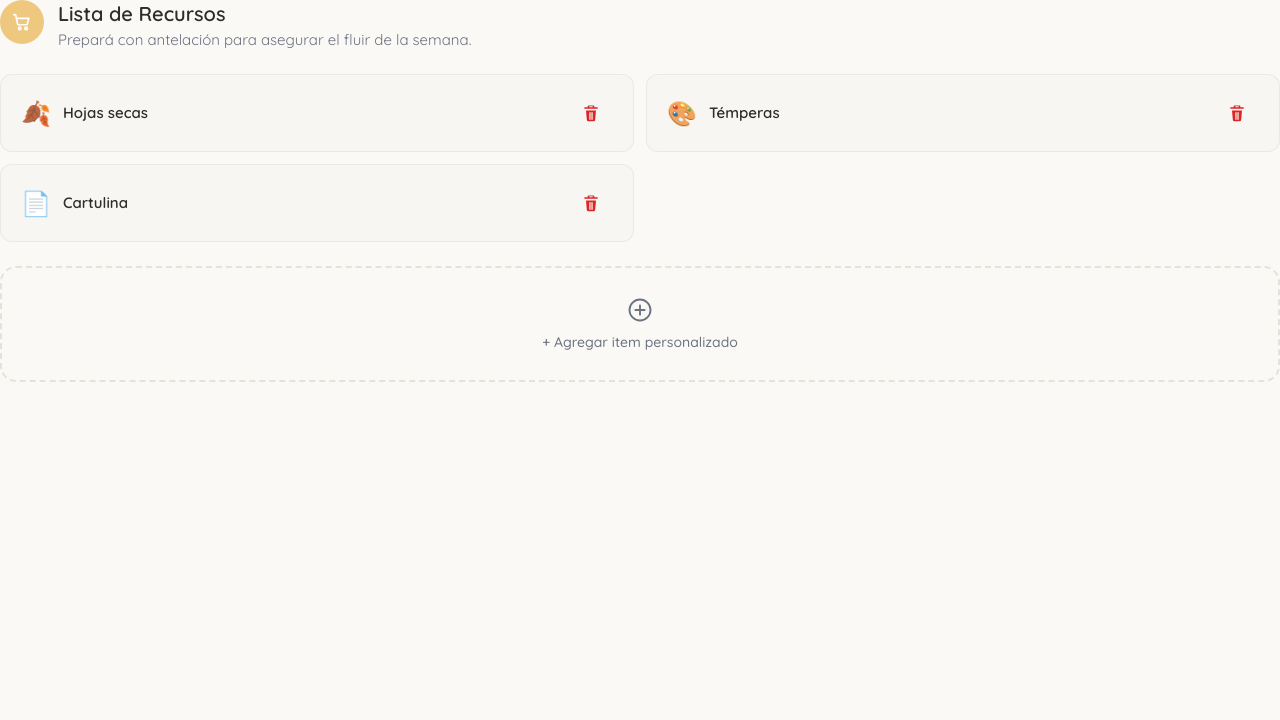
Test case: MaterialesTab - eliminar material › abre un diálogo de confirmación accesible y enfoca Cancelar
Click the button named "Eliminar material: Hojas secas".
click(591, 113)  # box left=569, top=91, right=613, bottom=135
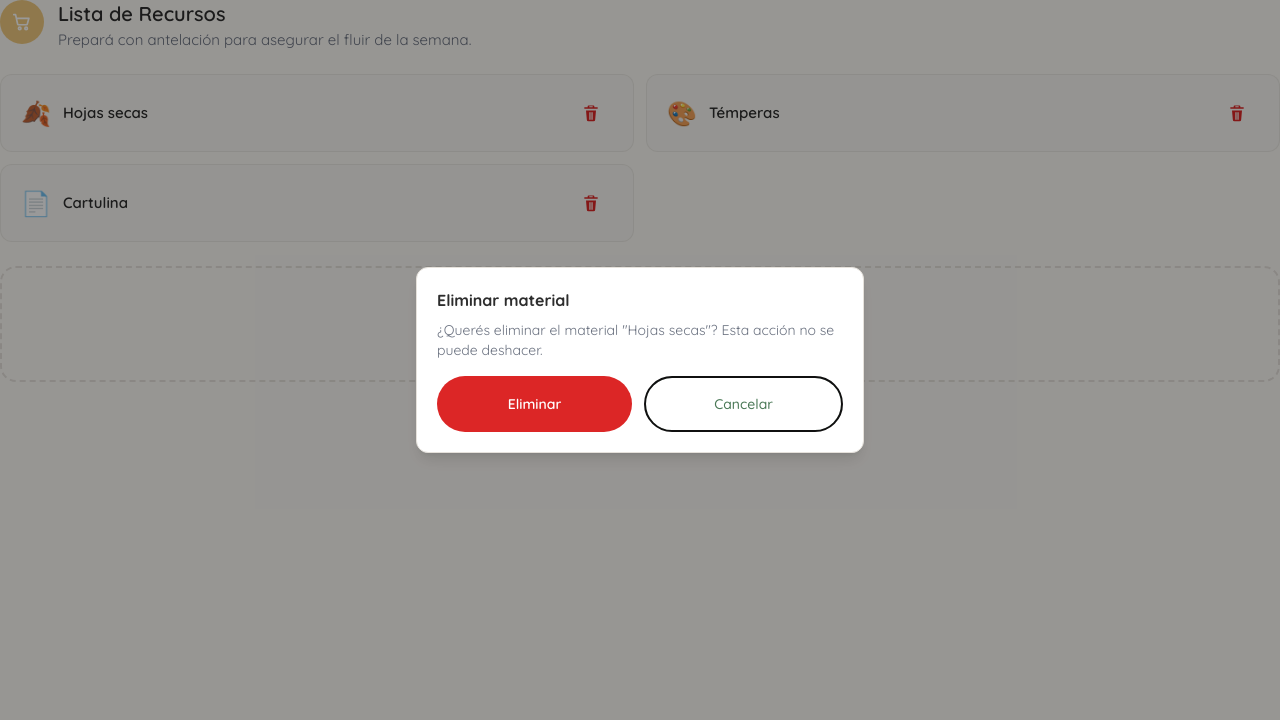
Now the dialog shows "Hojas secas", box left=622, top=321, right=711, bottom=339
